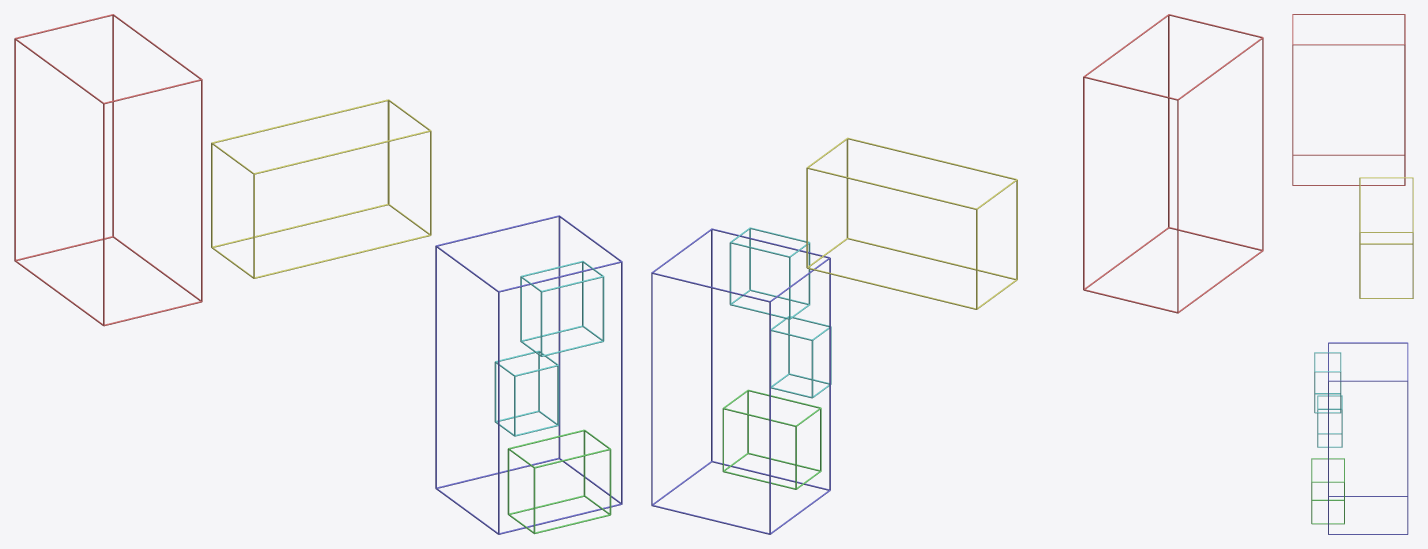
3 renders of one model, left to right at view 1: azimuth 30°, elevation 25°; view 2: azimuth 150°, elevation 25°; view 3: azimuth 270°, elevation 25°, orthographic. The views are drawn at different scales.
Visible parts, largest first — view 1: world; view 2: world; view 3: world.
Part boxes in pixels (box(x1,y1,x2,y2)): world: box(14, 14, 622, 534); world: box(651, 14, 1263, 534); world: box(1292, 14, 1413, 534).
Bounding box in the file's own units: 3.74 × 3.63 × 1.14.
